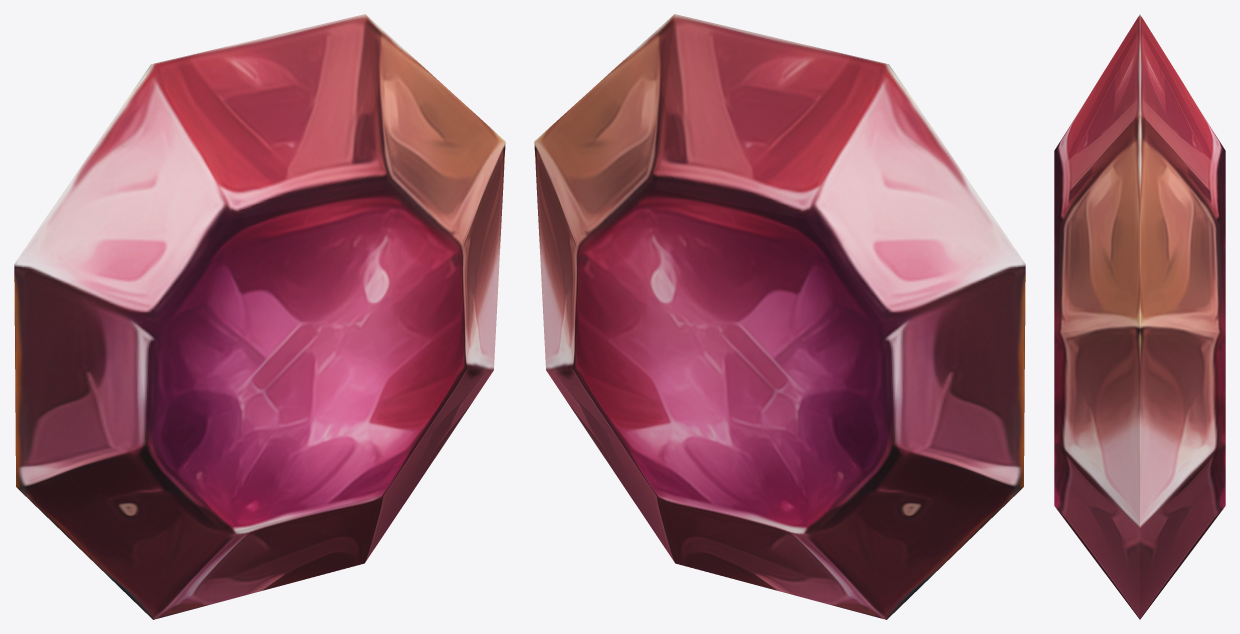
Rendered from Navette Gem.glb.
The picture shows the model from 3 angles, left to right: view 1: azimuth 30°, elevation 25°; view 2: azimuth 150°, elevation 25°; view 3: azimuth 270°, elevation 25°; orthographic projection. The views are drawn at different scales.
Visible parts, largest first — view 1: Object_2.007; view 2: Object_2.007; view 3: Object_2.007.
Part boxes in pixels (box(x1,y1,x2,y2)): Object_2.007: box(14, 14, 505, 619); Object_2.007: box(534, 14, 1025, 619); Object_2.007: box(1054, 14, 1225, 619).
Bounding box in the file's own units: 1.65 × 1.78 × 0.538.
1 material, 1 textured.
